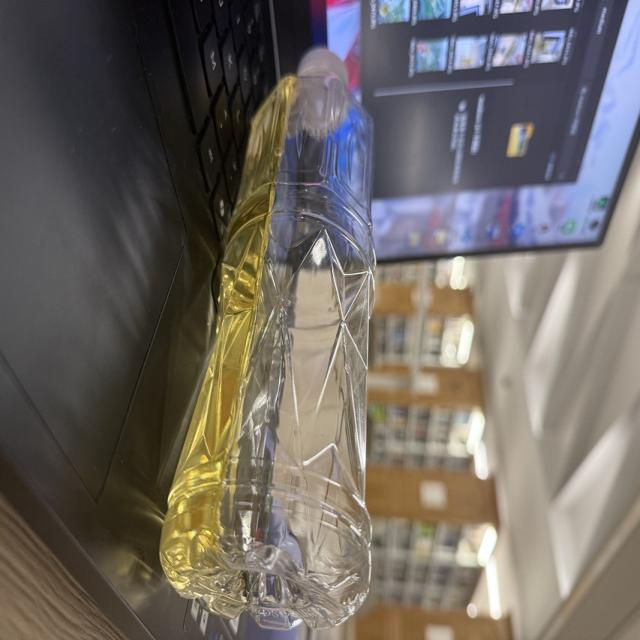low: (161, 49, 375, 628)
